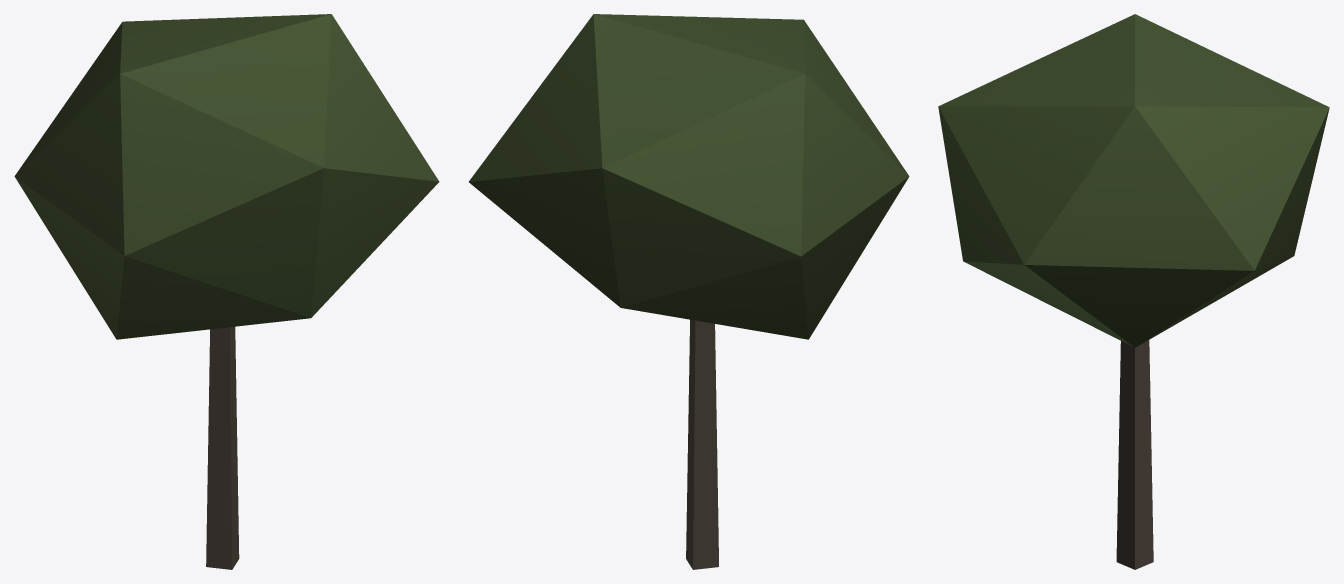
The model's file is xinyi_reference_preview_lod0.glb.
3 views of the same model, side by side, from view 1: azimuth 30°, elevation 25°; view 2: azimuth 150°, elevation 25°; view 3: azimuth 270°, elevation 25° (orthographic). The views are drawn at different scales.
Visible parts, largest first — view 1: xinyi_reference_preview_LOD0; view 2: xinyi_reference_preview_LOD0; view 3: xinyi_reference_preview_LOD0.
Part boxes in pixels (x1,y1,x2,y2): xinyi_reference_preview_LOD0: (14, 14, 439, 569); xinyi_reference_preview_LOD0: (469, 14, 909, 569); xinyi_reference_preview_LOD0: (938, 14, 1329, 569).
Bounding box in the file's own units: 5.51 × 8.44 × 5.9.
